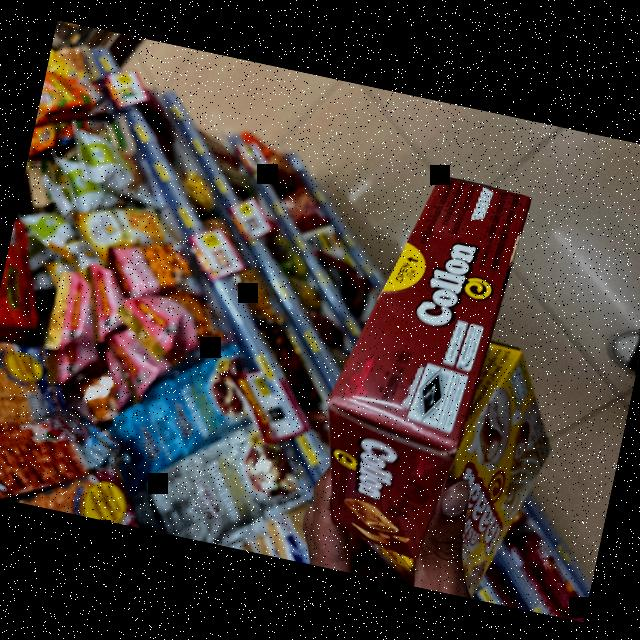cardboard_box: (294, 135, 543, 590), (345, 306, 601, 594)
